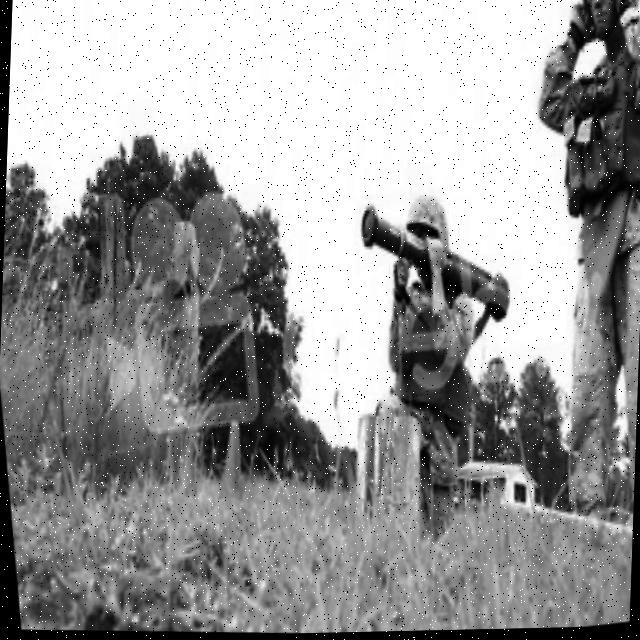rocket: (352, 182, 516, 350)
